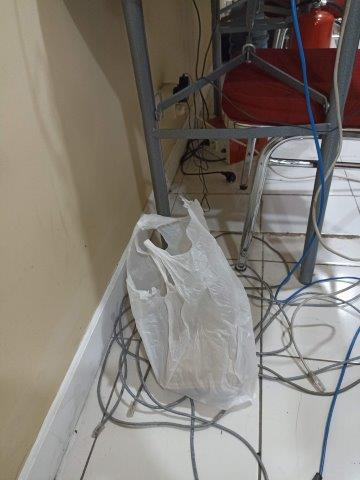plastik: (125, 198, 257, 407)
